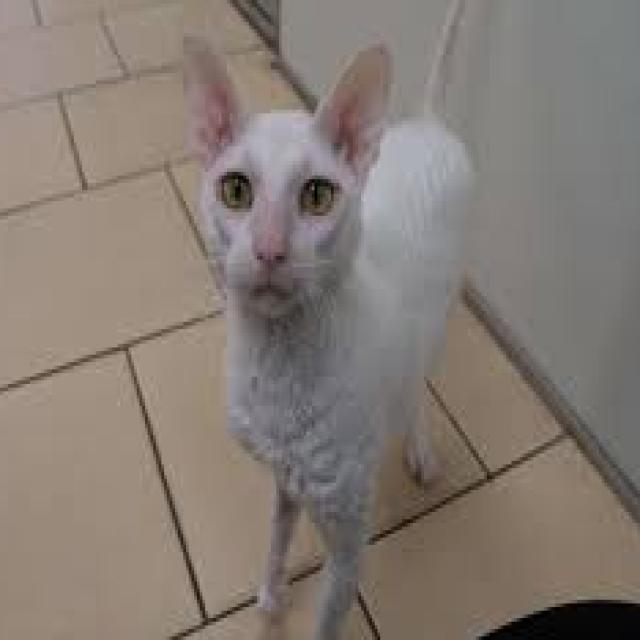Cornish Rex: (172, 0, 492, 640)
